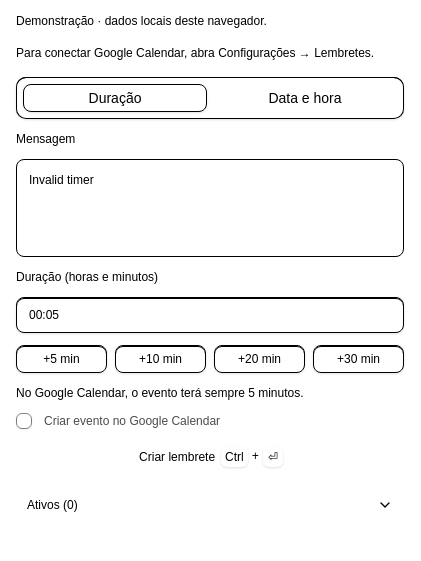
Test: rejects invalid duration 00:00 before persistence
Replace the text in the field labelled "Duração (horas e minutos)" with "00:00" at (210,315), box [16, 297, 404, 333]
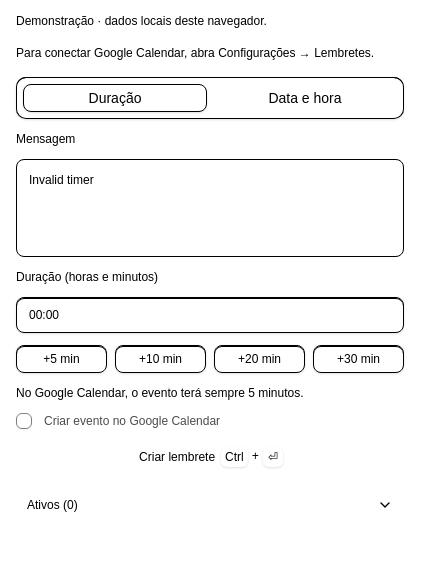
Submit the form
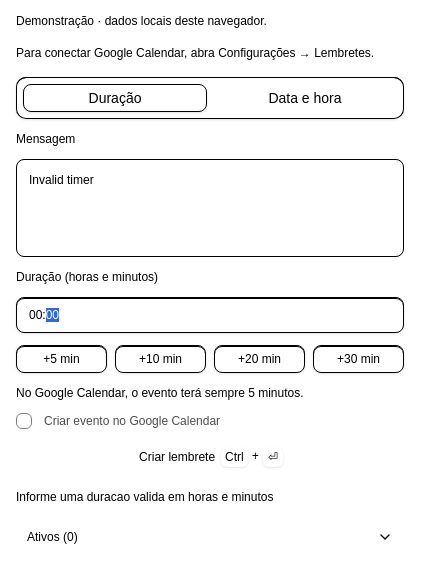
Expected: the message shows "Informe", [16, 490, 274, 504]
